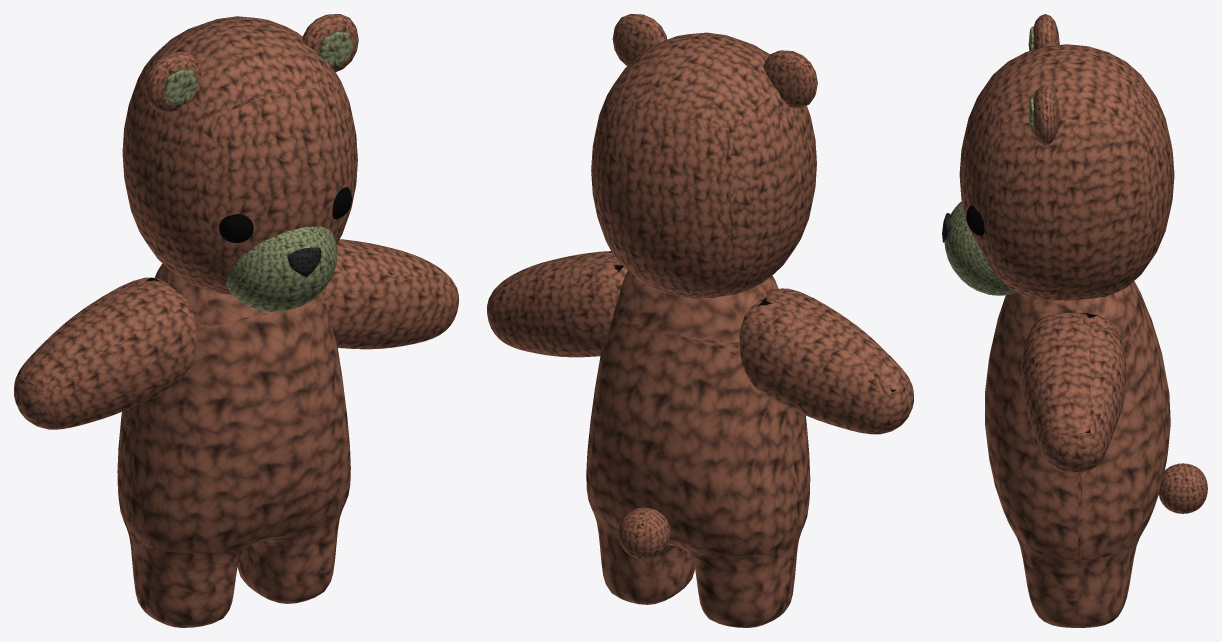
File: OSITO.glb
The picture shows the model from 3 angles, left to right: view 1: azimuth 30°, elevation 25°; view 2: azimuth 150°, elevation 25°; view 3: azimuth 270°, elevation 25°; orthographic projection. The views are drawn at different scales.
Visible parts, largest first — view 1: body, head, arms, snoot, ears, in ears, eyes, nose; view 2: body, head, arms, ears, tail; view 3: head, body, arms, snoot, ears, tail, eyes.
Boxes of the visible parts, x1=… form: body: x1=117, y1=263, x2=350, y2=627; head: x1=122, y1=16, x2=357, y2=294; arms: x1=14, y1=239, x2=458, y2=429; snoot: x1=226, y1=226, x2=337, y2=311; ears: x1=145, y1=14, x2=358, y2=112; in ears: x1=164, y1=31, x2=353, y2=104; eyes: x1=219, y1=187, x2=351, y2=242; nose: x1=287, y1=247, x2=321, y2=277; body: x1=586, y1=271, x2=810, y2=627; head: x1=591, y1=32, x2=816, y2=298; arms: x1=487, y1=251, x2=913, y2=434; ears: x1=612, y1=14, x2=817, y2=108; tail: x1=618, y1=507, x2=670, y2=559; head: x1=959, y1=44, x2=1174, y2=300; body: x1=985, y1=281, x2=1170, y2=627; arms: x1=1021, y1=312, x2=1126, y2=473; snoot: x1=944, y1=201, x2=1015, y2=295; ears: x1=1033, y1=14, x2=1059, y2=145; tail: x1=1158, y1=463, x2=1207, y2=513; eyes: x1=966, y1=205, x2=984, y2=235.
Bounding box in the file's own units: 1.37 × 1.75 × 0.7789.
Materials: 7 (6 with a texture image).
